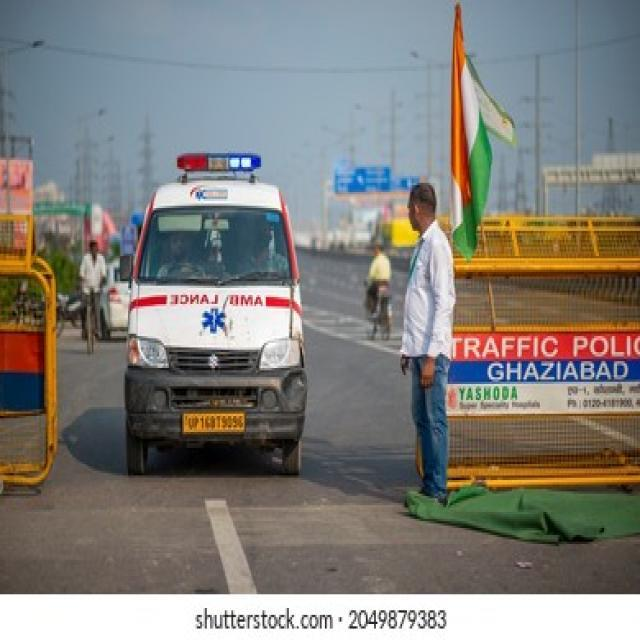ambulance: (125, 149, 304, 479)
